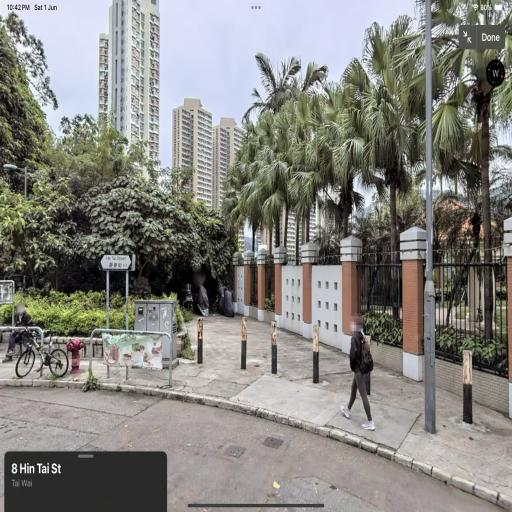Roads: (0, 328, 506, 500)
Trees: (9, 94, 230, 348), (341, 18, 441, 343), (458, 12, 504, 343), (247, 73, 334, 234)
